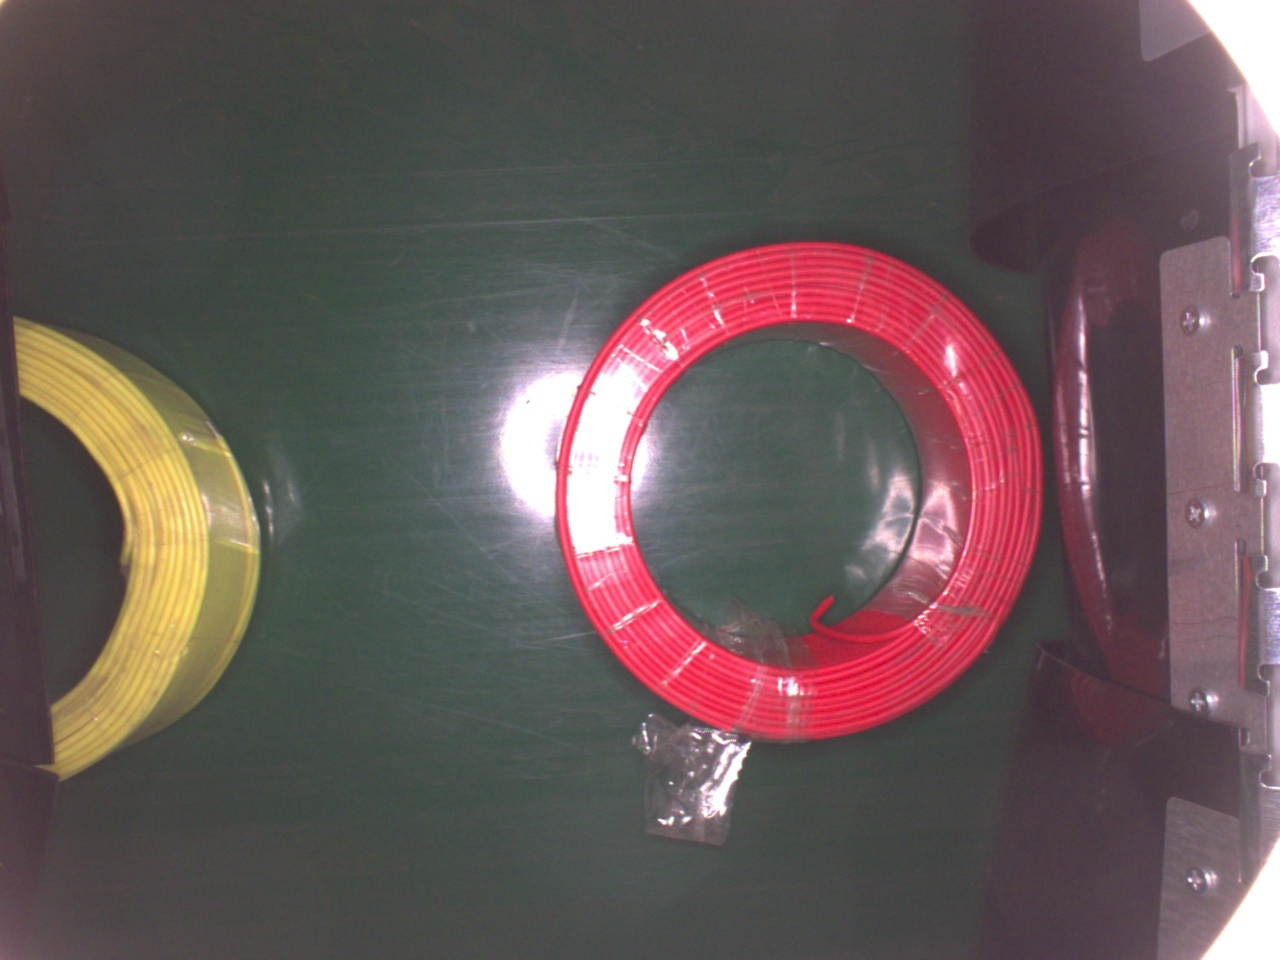red: (548, 231, 1048, 743)
yellow: (11, 307, 264, 785)
